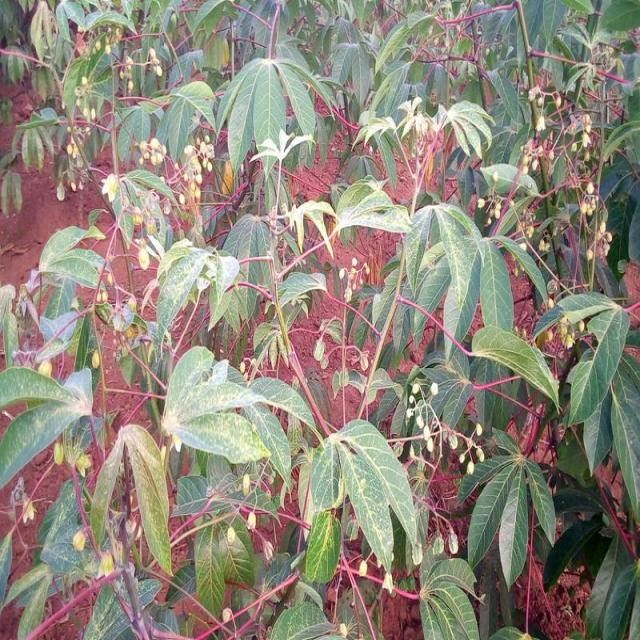cassava leaf: (2, 0, 640, 638), (1, 364, 94, 488)
